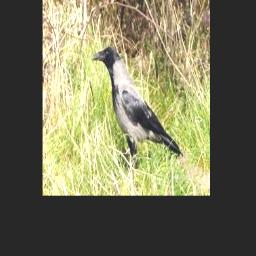Crow: (91, 47, 183, 168)
